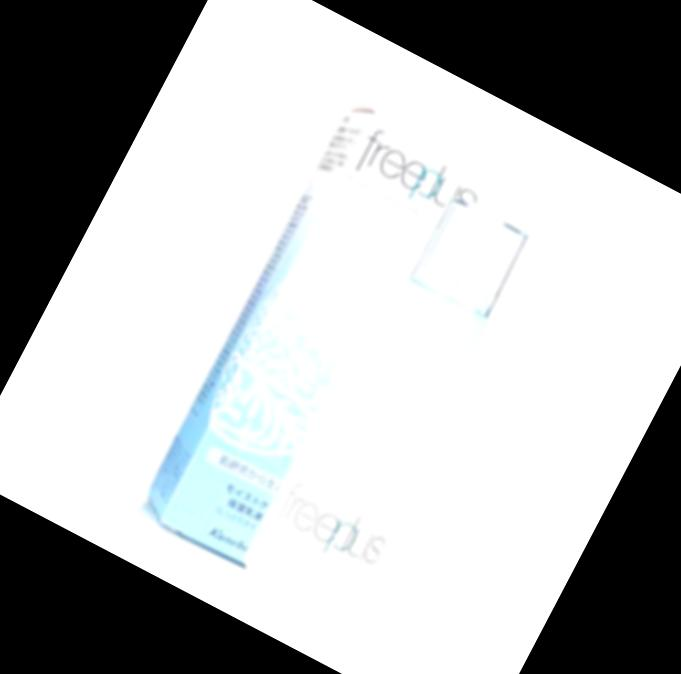cosmetic: (232, 183, 551, 630)
